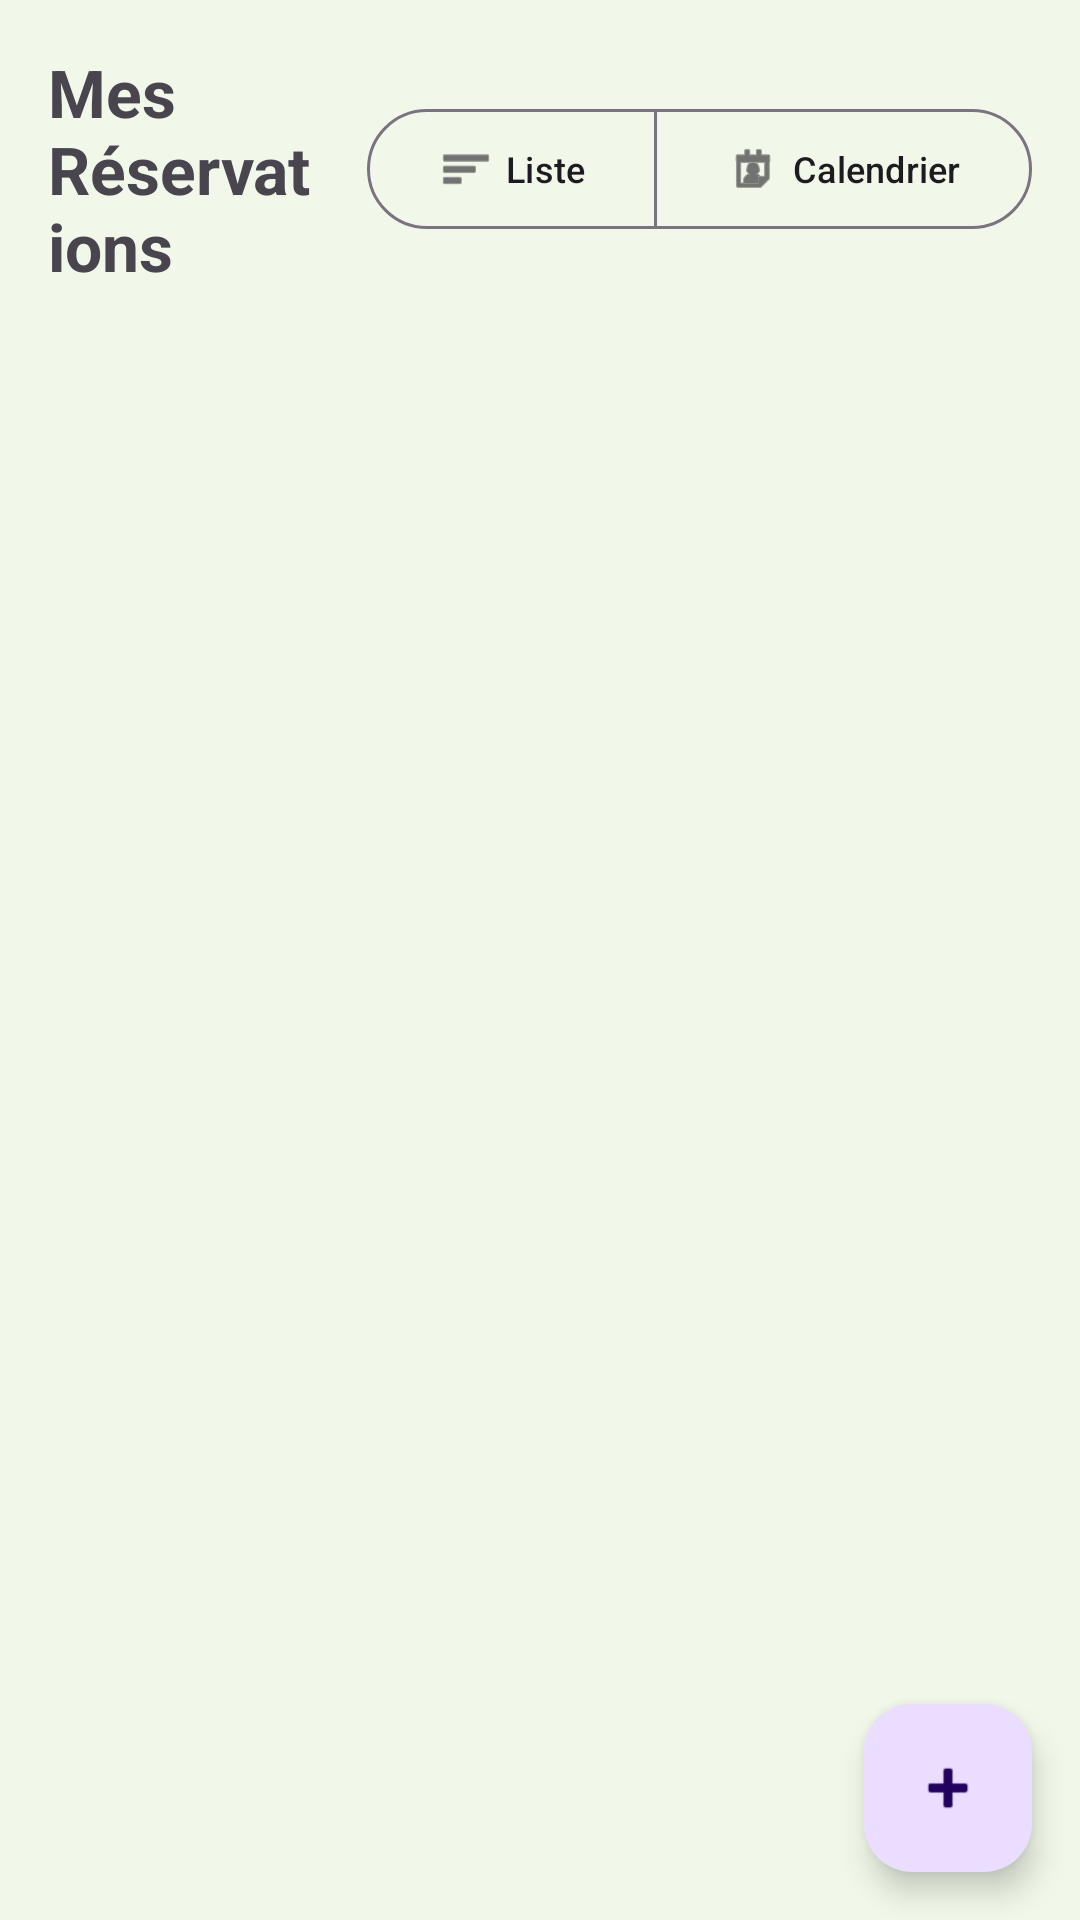

Point at icon controls on the screen. Image size 1080×1920, points as point (x, y).
Nouvelle réservation: point (948, 1788)
